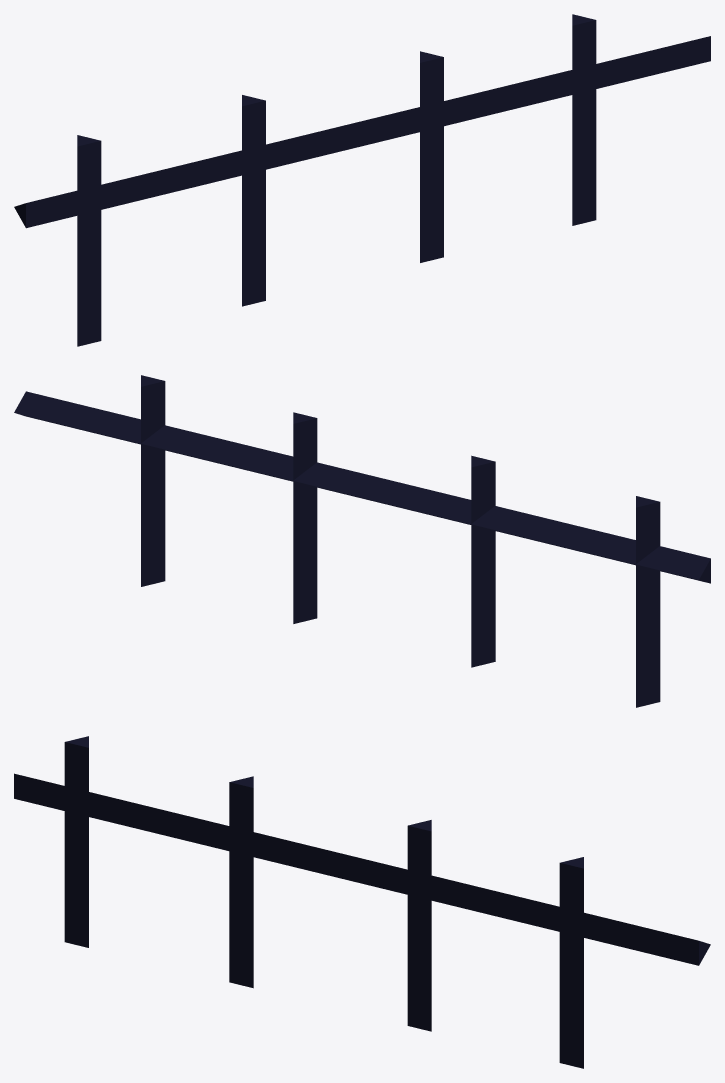
File: fence.obj
3 renders of one model, top to bottom at view 1: azimuth 30°, elevation 25°; view 2: azimuth 150°, elevation 25°; view 3: azimuth 330°, elevation 25°, orthographic.
Parts seen in each view (by area): view 1: fence; view 2: fence; view 3: fence.
Boxes of the visible parts, x1,y1,x2,y2 form: fence: (14,14,710,346); fence: (14,375,710,707); fence: (14,736,710,1068).
Bounding box in the file's own units: 2.34 × 0.6545 × 0.0723.
